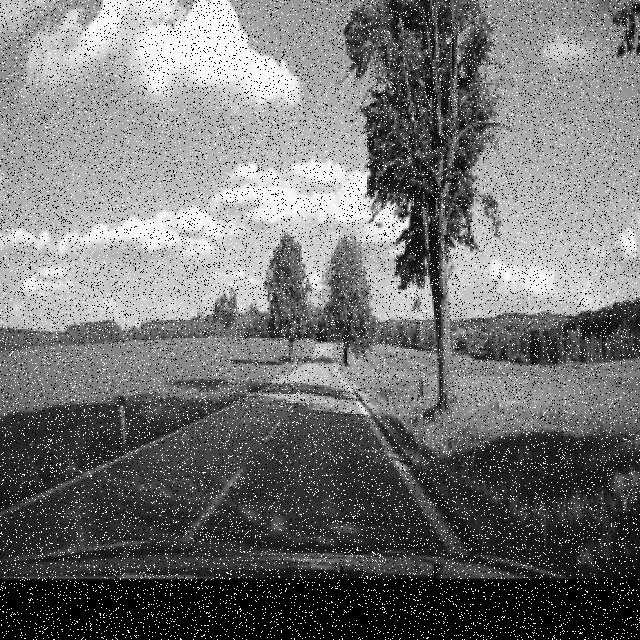clear-road: (134, 344, 401, 505)
